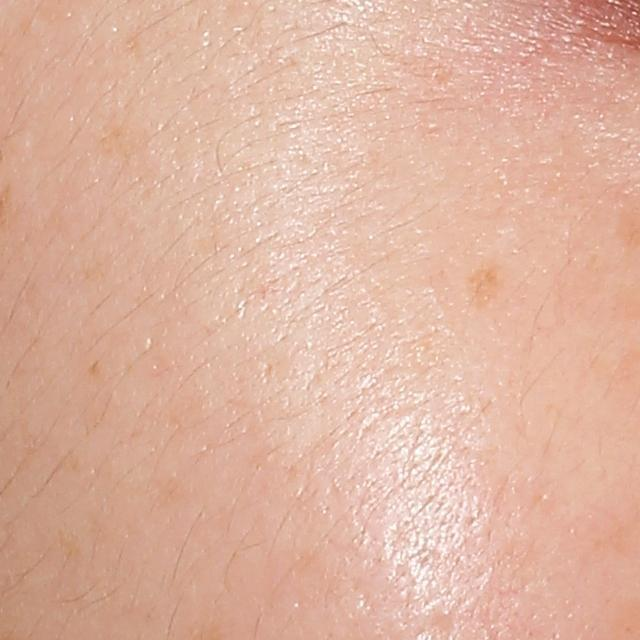melasma: (466, 259, 505, 308)
